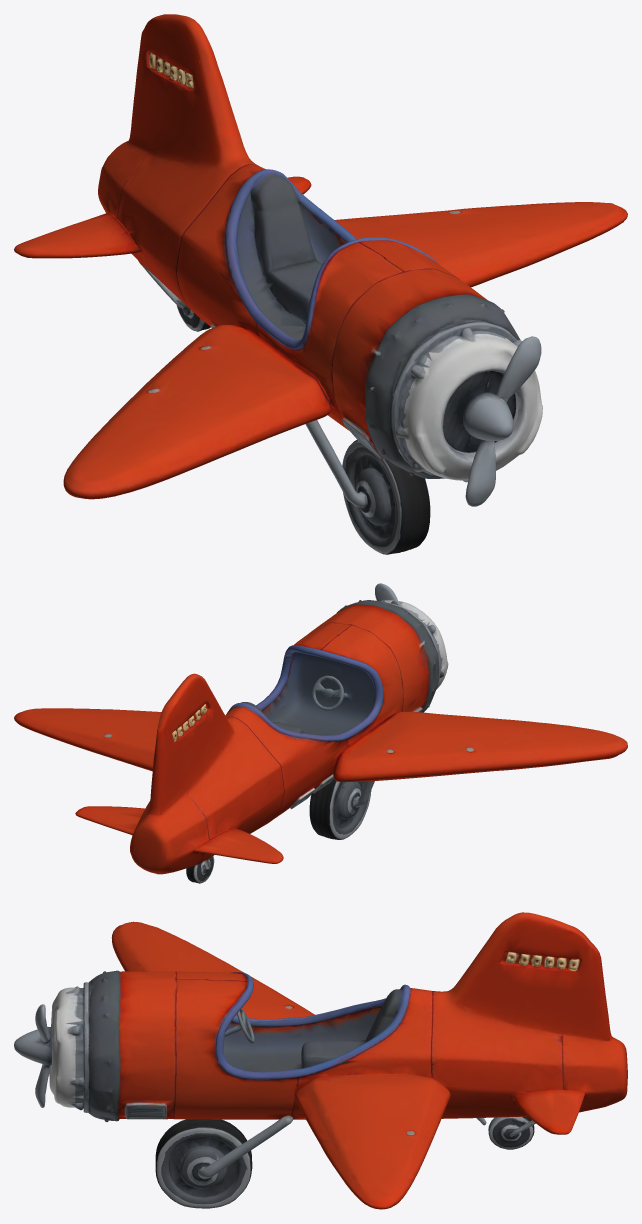
The picture shows the model from 3 angles, top to bottom: view 1: azimuth 30°, elevation 25°; view 2: azimuth 150°, elevation 25°; view 3: azimuth 270°, elevation 25°; orthographic projection. The views are drawn at different scales.
Visible parts, largest first — view 1: tripo_node_2e2197be-d780-4aab-84c1-e2685078ad04; view 2: tripo_node_2e2197be-d780-4aab-84c1-e2685078ad04; view 3: tripo_node_2e2197be-d780-4aab-84c1-e2685078ad04.
Boxes of the visible parts, box(x1,y1,x2,y2) form: tripo_node_2e2197be-d780-4aab-84c1-e2685078ad04: box(14, 14, 627, 554); tripo_node_2e2197be-d780-4aab-84c1-e2685078ad04: box(14, 583, 627, 883); tripo_node_2e2197be-d780-4aab-84c1-e2685078ad04: box(14, 912, 627, 1209).
Size of the model in its own units: 1 by 0.5026 by 0.9454.
Materials: 1 (1 with a texture image).
